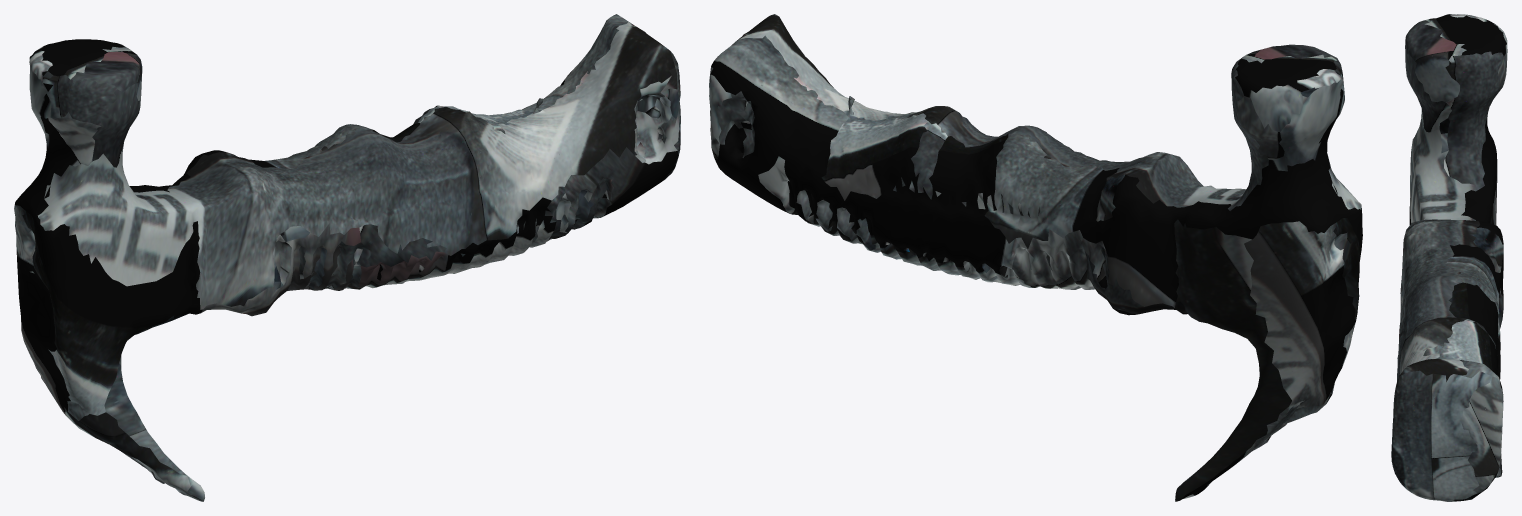
The picture shows the model from 3 angles, left to right: view 1: azimuth 30°, elevation 25°; view 2: azimuth 150°, elevation 25°; view 3: azimuth 270°, elevation 25°; orthographic projection. The views are drawn at different scales.
Bounding box in the file's own units: 0.1581 × 0.1105 × 0.0284.
